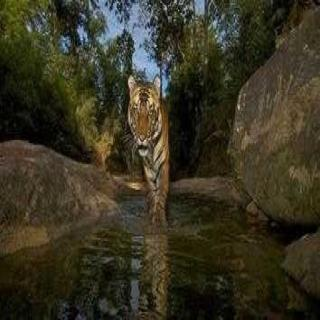Tiger: (112, 68, 186, 238)
